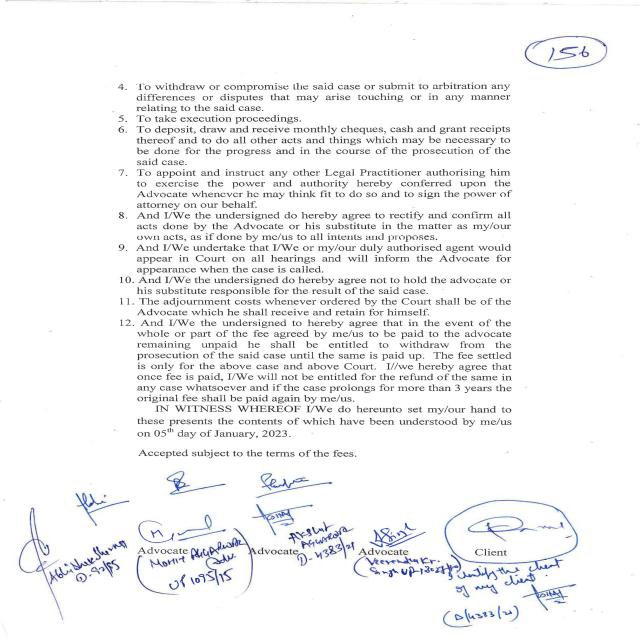page-number: (370, 4, 638, 80)
